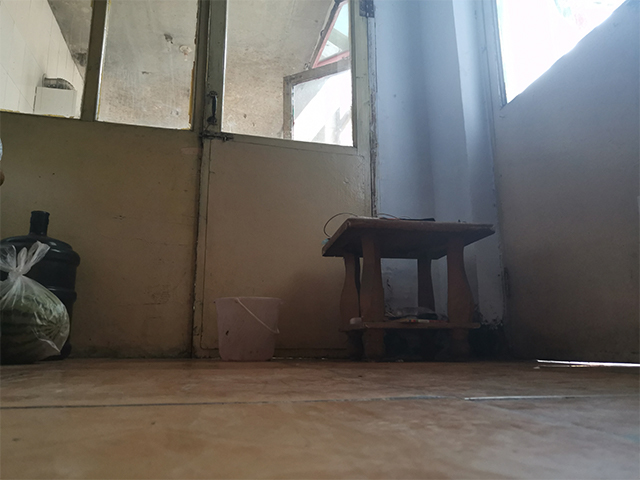table: (320, 215, 498, 361)
trashcan: (214, 294, 283, 363)
